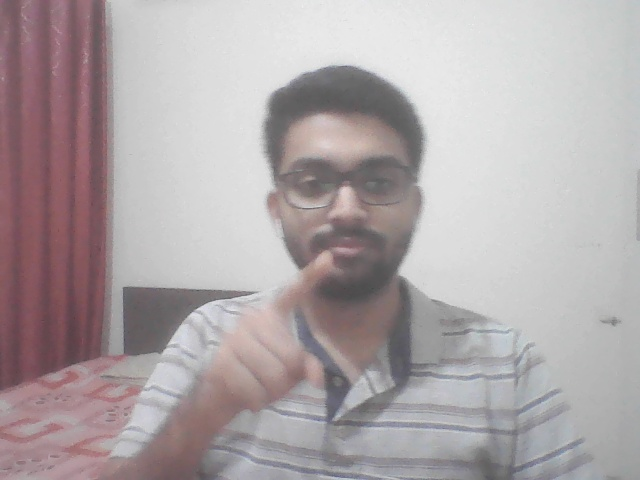you: (177, 243, 378, 428)
